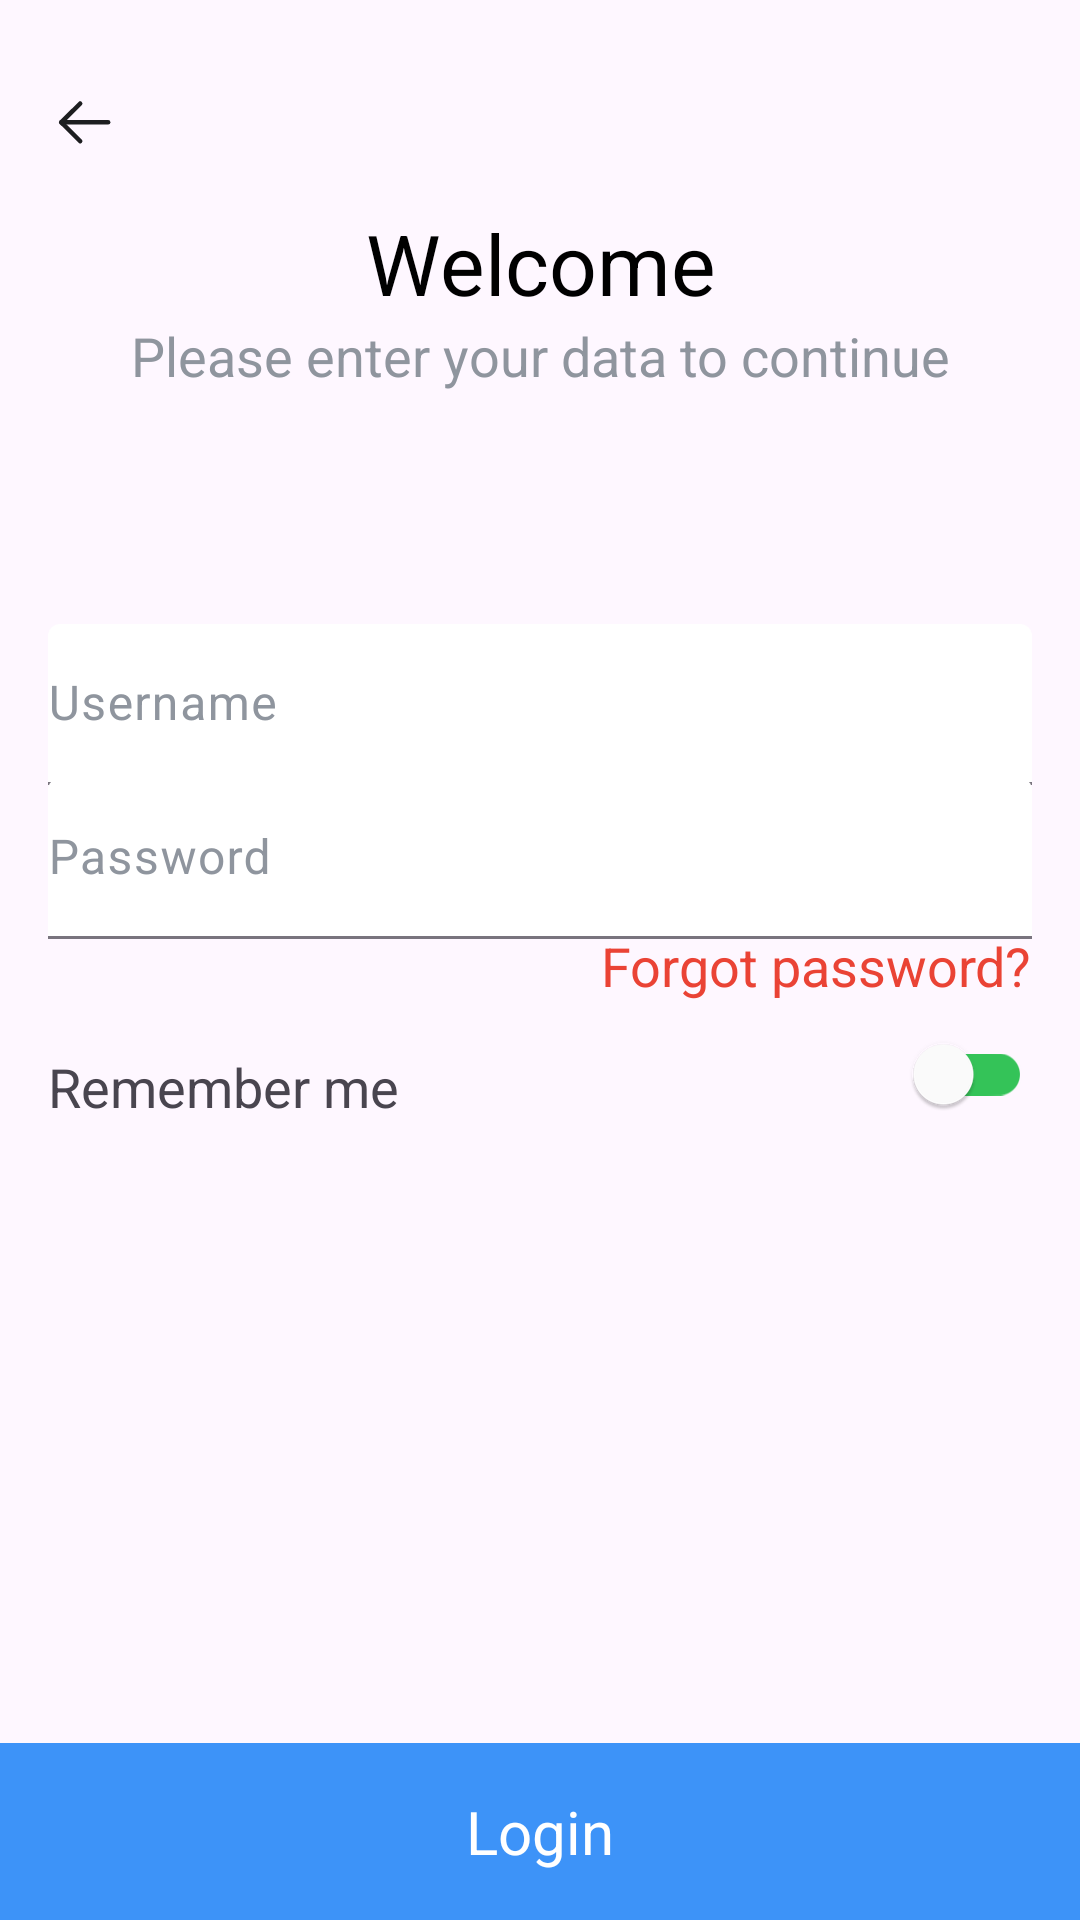

Icon click points for this 1080px x 1920px phone screenshot, format (x,y):
back: (85,122)
